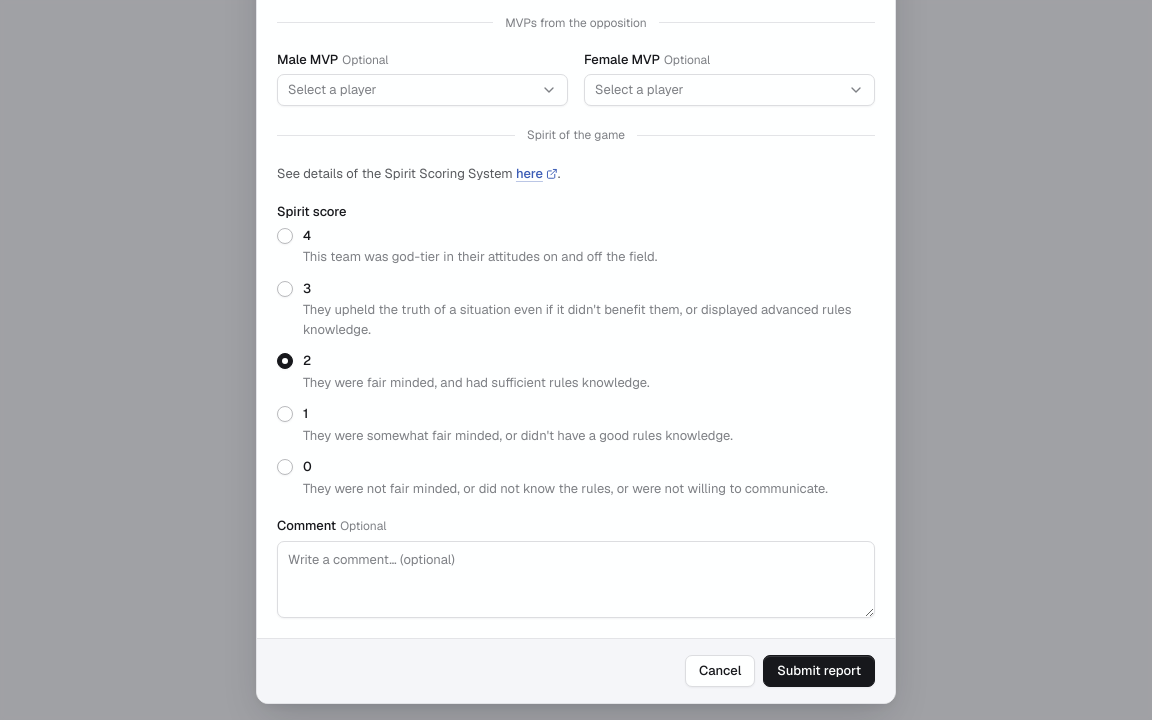
ReportDialog (player report) › requires both scores
(page scrolled)
Step 1. Click the button "Submit report" → coordinates (819, 670), box x1=763 y1=654 x2=875 y2=686
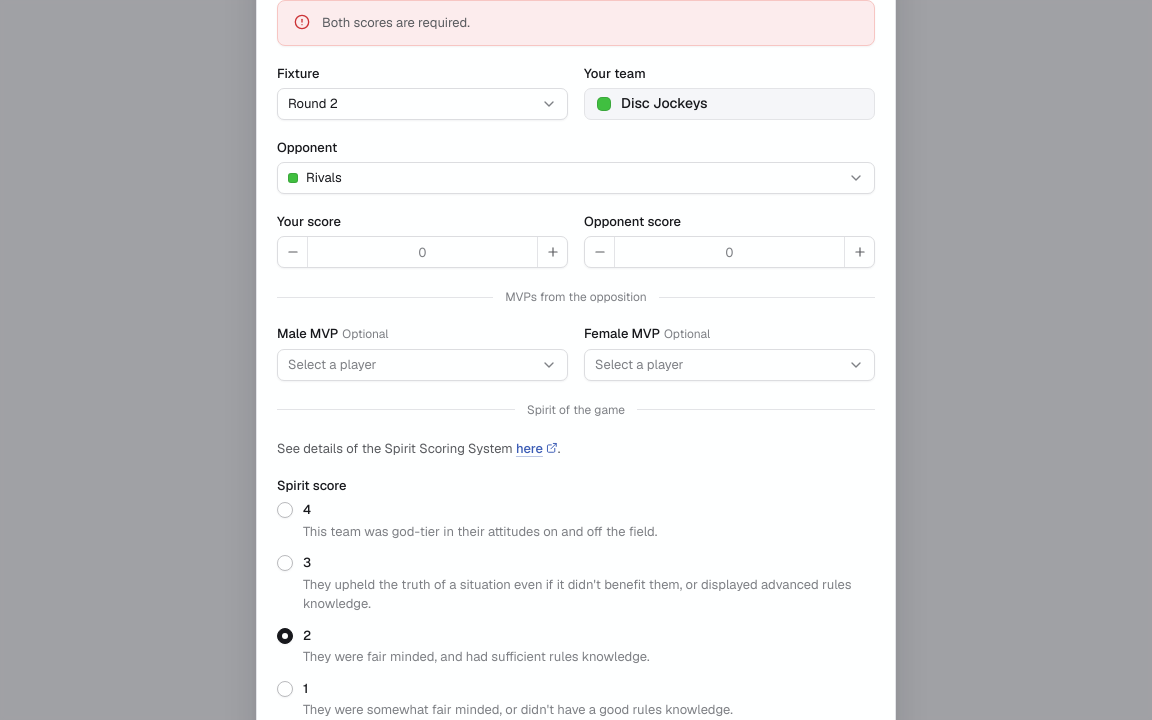
Check: the message reads "Both scores are required.", box x1=322 y1=14 x2=470 y2=31
Step 2. Type "1" into the number field labelled "Your score" → coordinates (422, 252), box x1=308 y1=237 x2=537 y2=267
Then press Enter
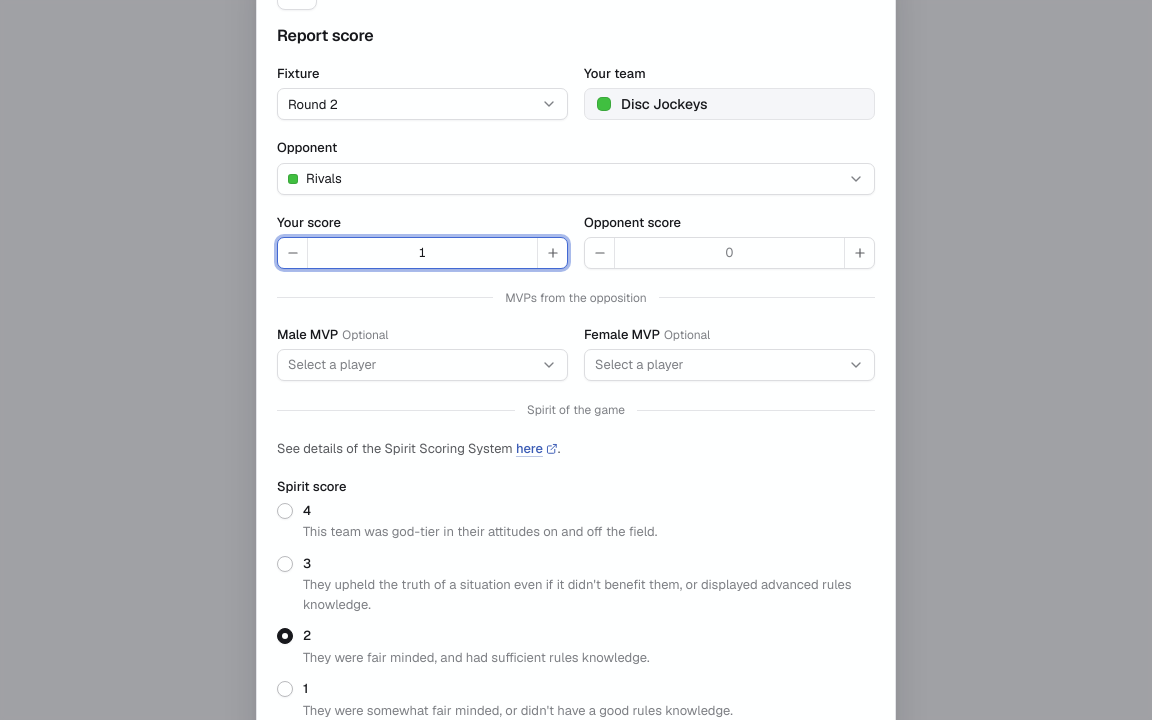
Check: the message "Both scores are required." is gone
